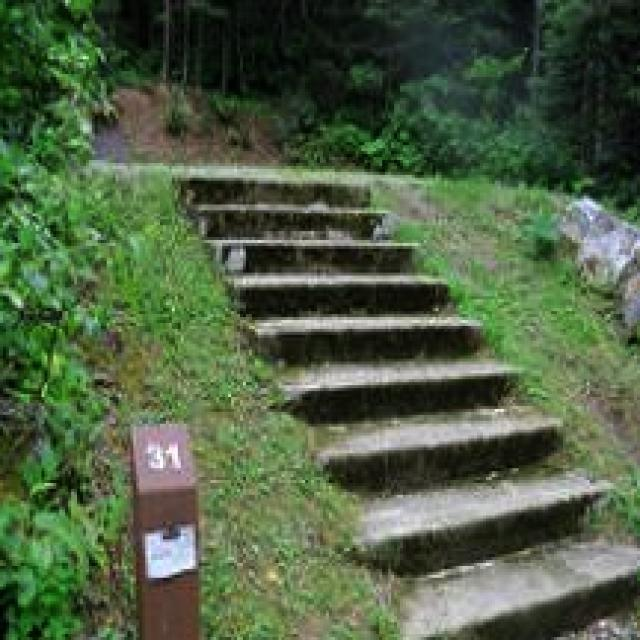upstair: (193, 184, 640, 640)
